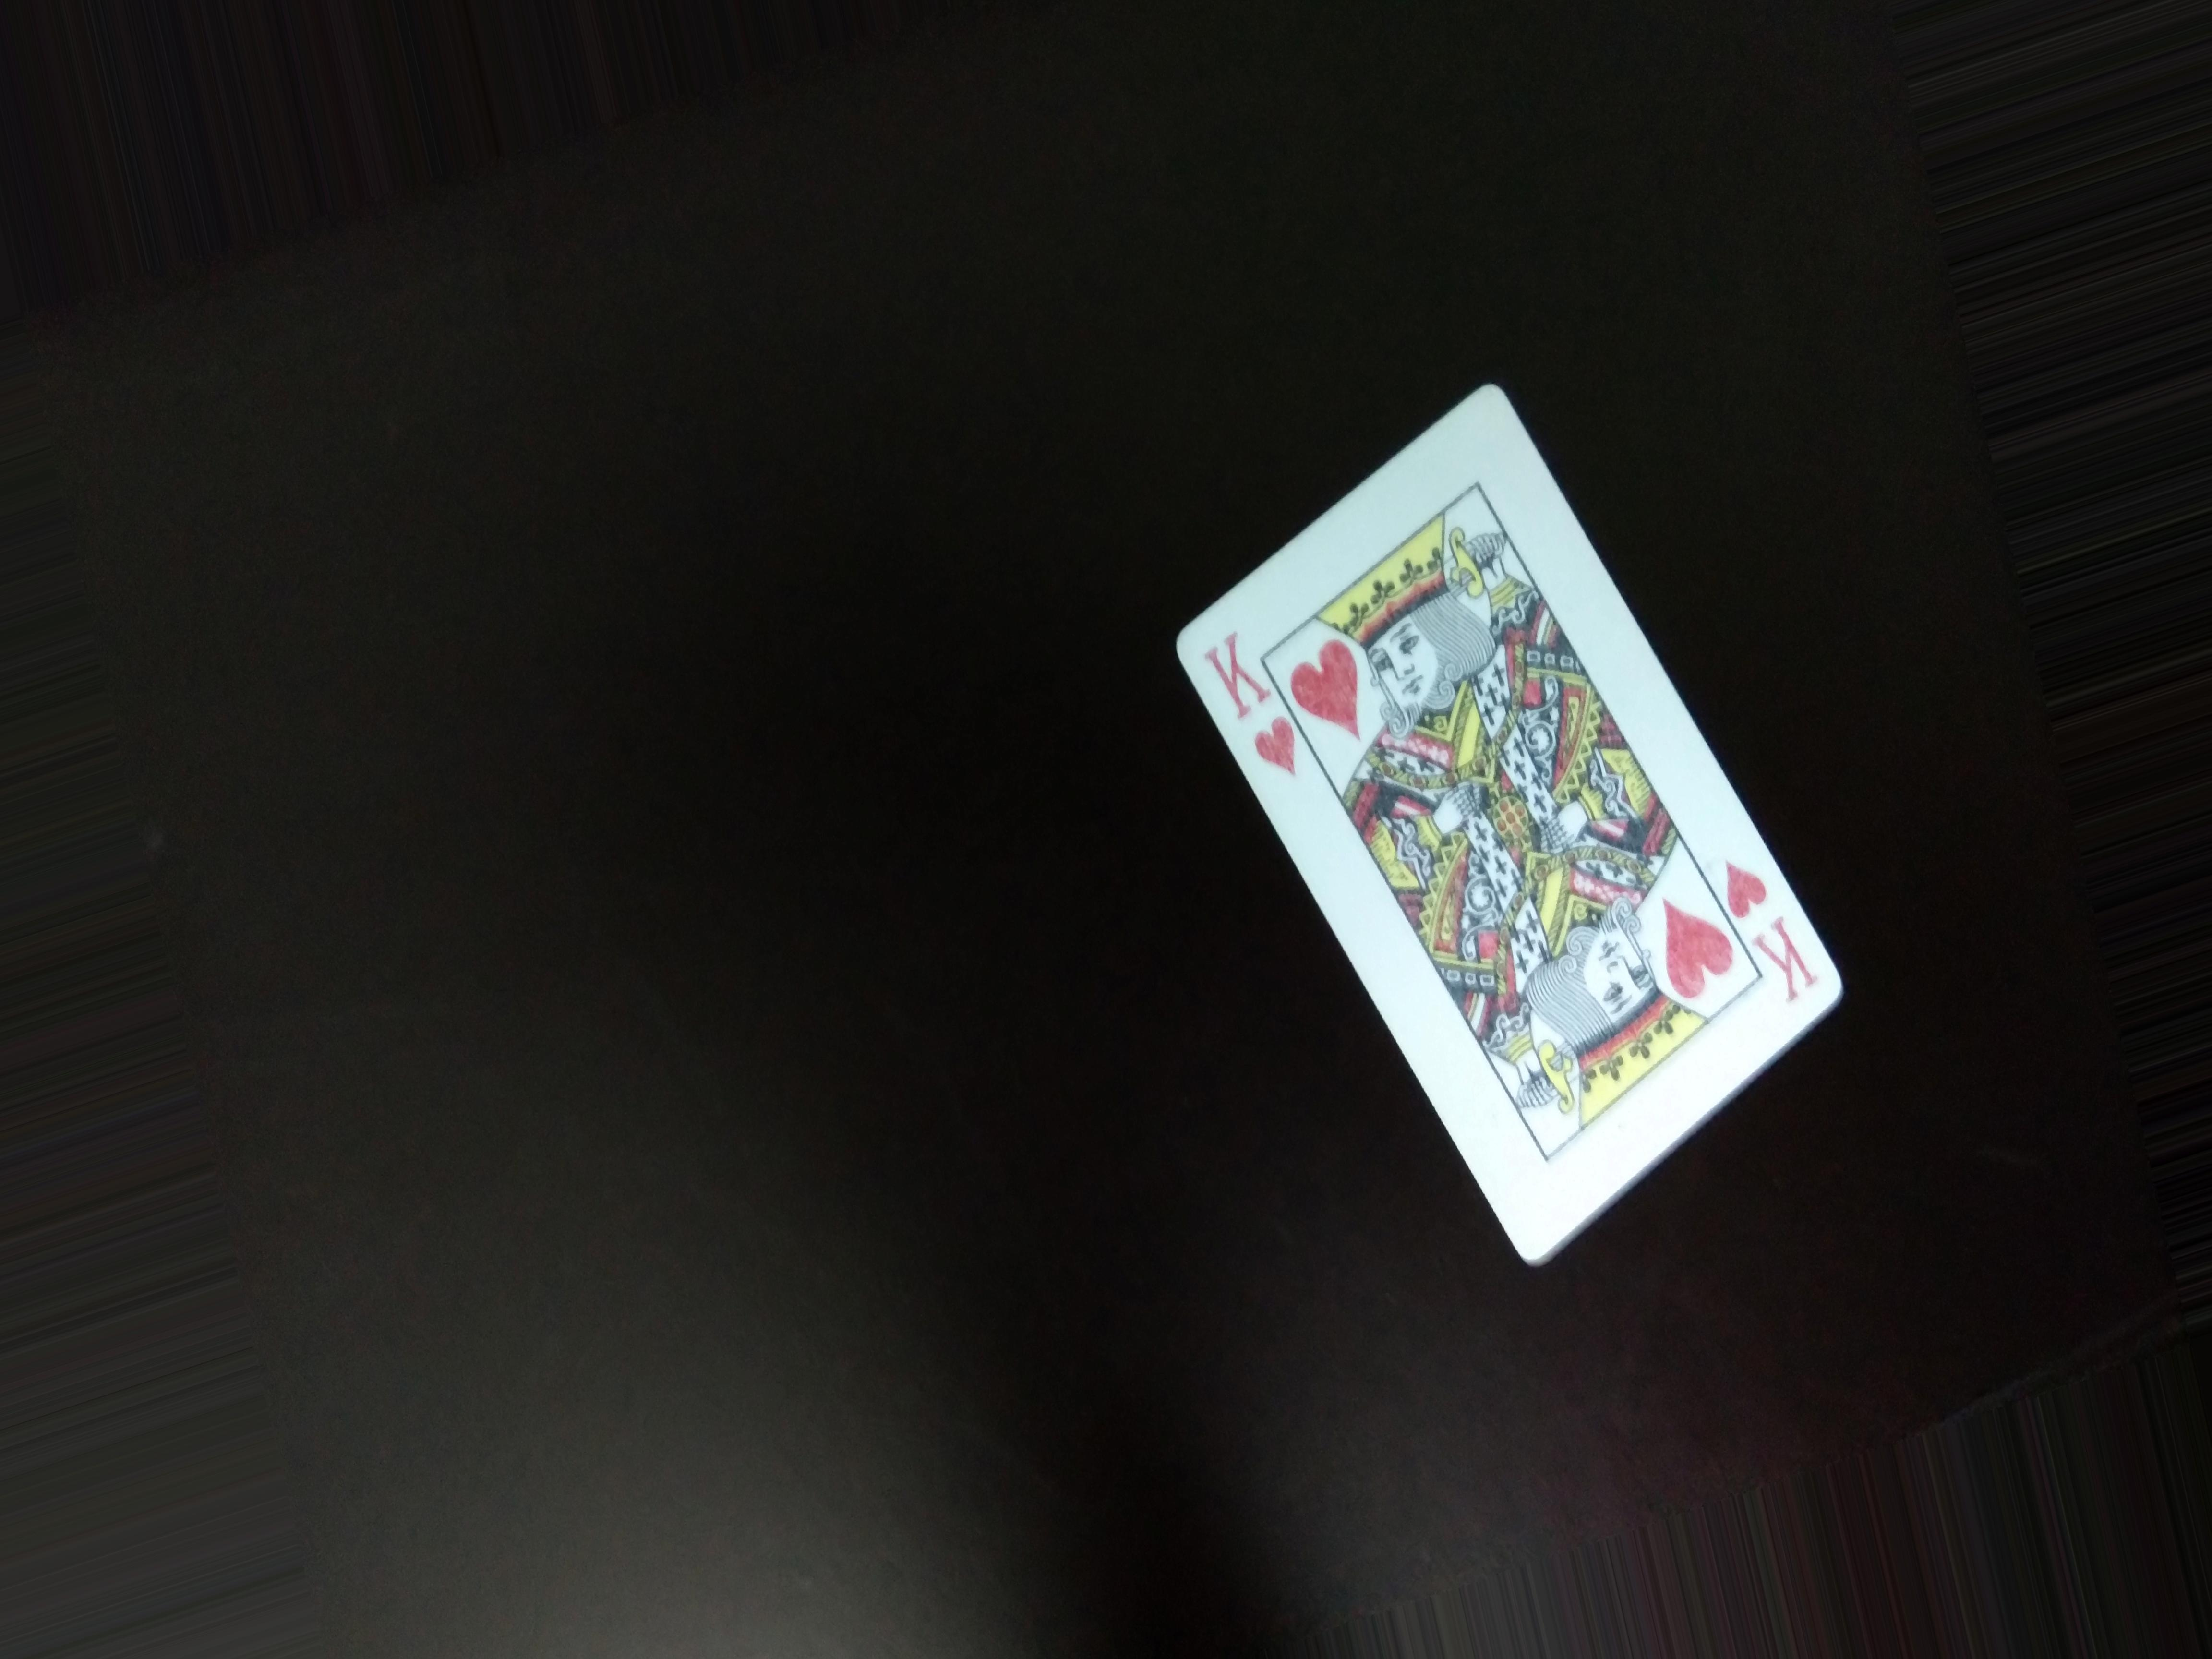KH: (1198, 629, 1298, 803)
